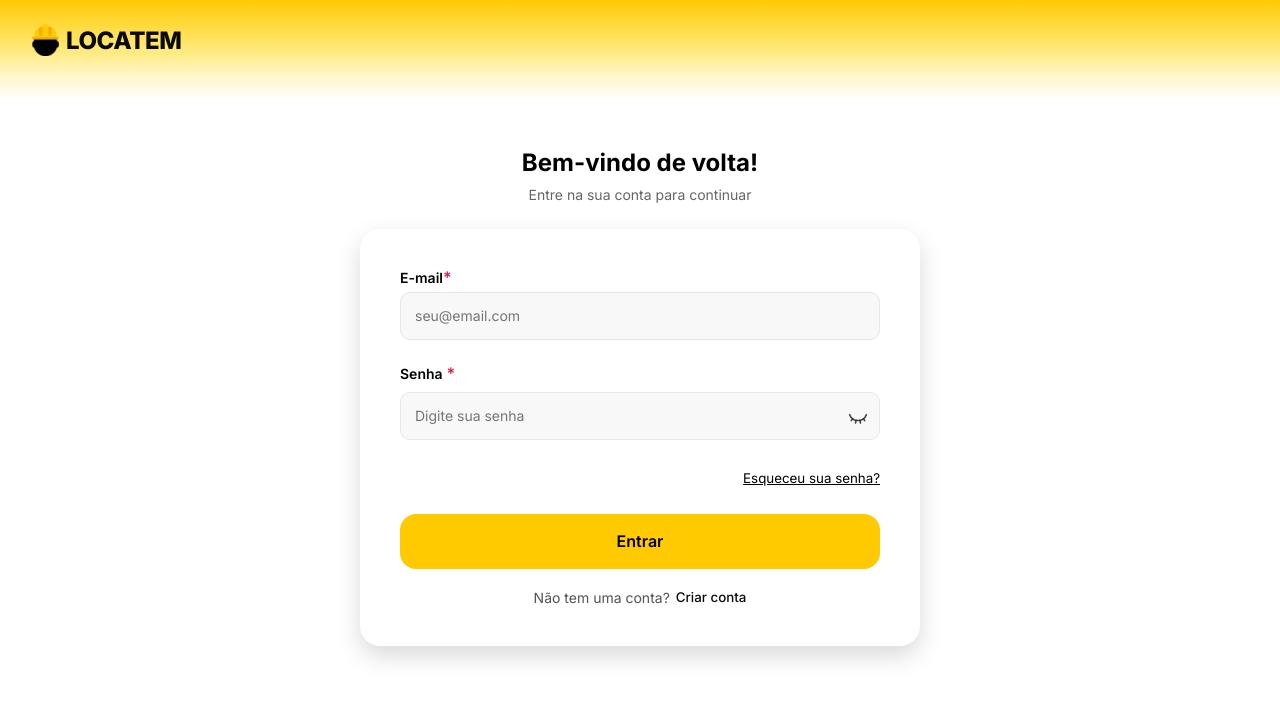
Test: Login › deve mostrar erro para login invalido sem depender do backend real
The width and height of the screenshot is (1280, 720).
Type "maria.oliveira@exemplo.com" into the field labelled "E-mail *" at (640, 316), box [400,292,880,340]
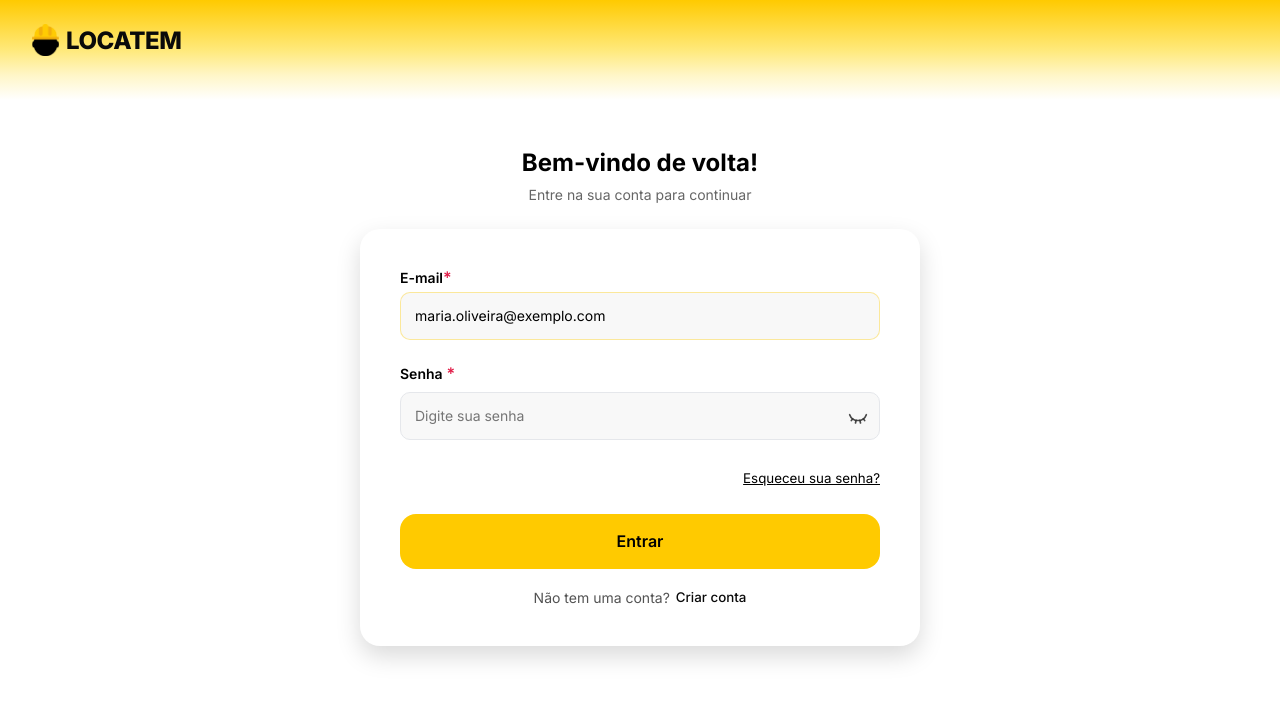
Type "senha-incorreta" into the password field labelled "Senha *" at (640, 416), box [400,392,880,440]
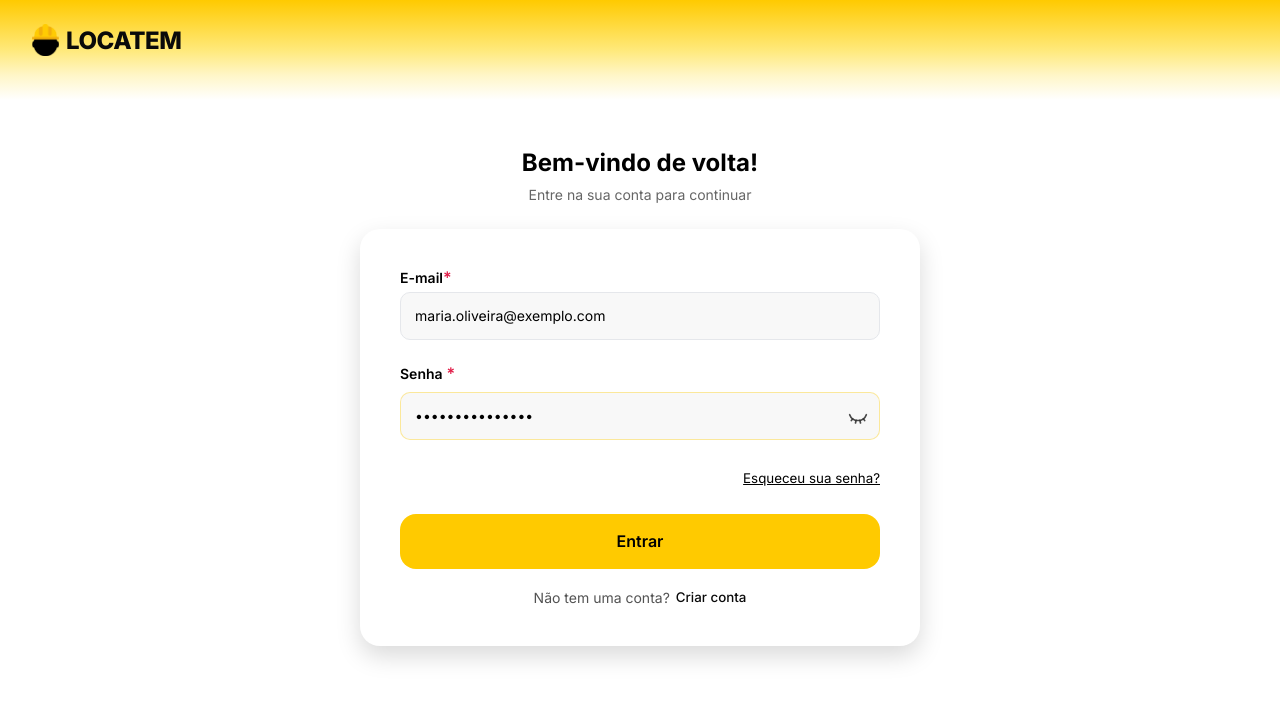
Click the button "Entrar" at (640, 541), box [400,514,880,569]
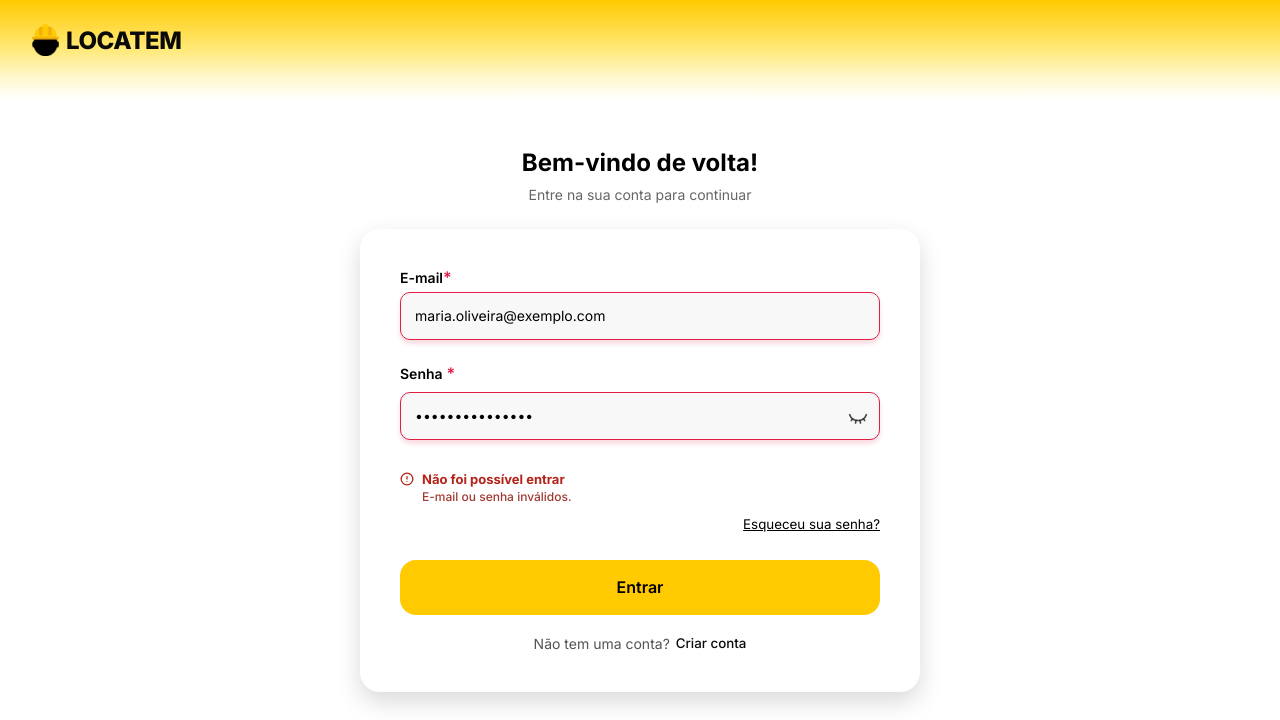
Result: the text "E-mail ou senha inválidos." is shown at [422,489,572,506]
